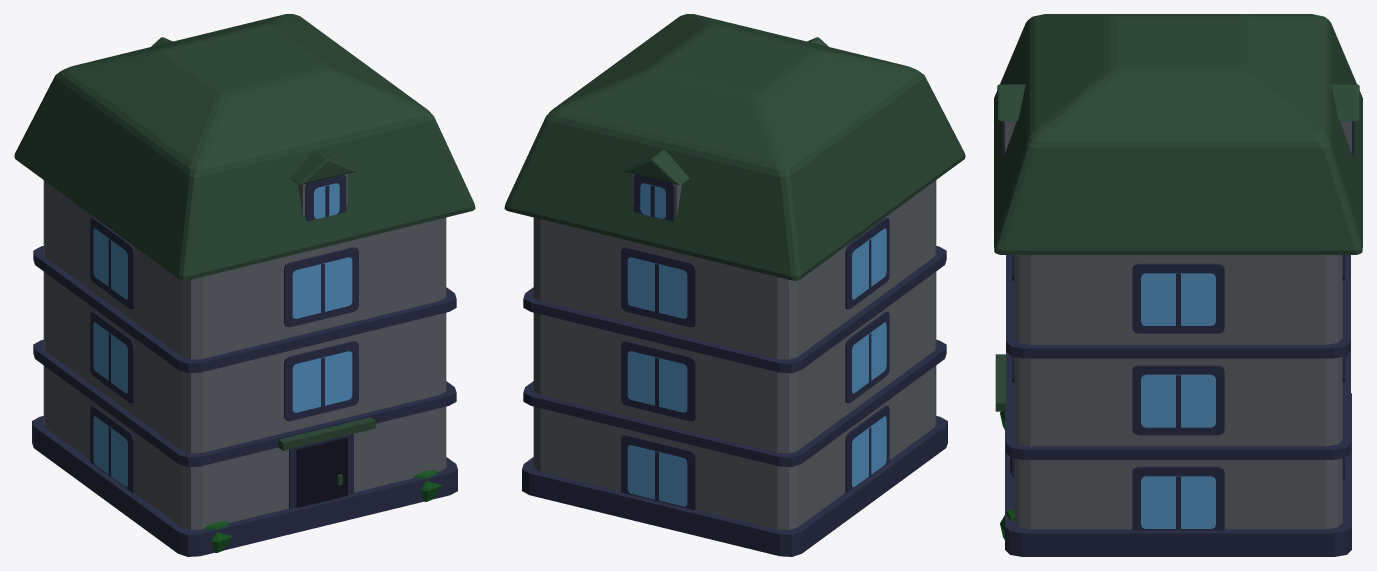
The model's file is house-1x1-3f-mansard-d.glb.
The picture shows the model from 3 angles, left to right: view 1: azimuth 30°, elevation 25°; view 2: azimuth 150°, elevation 25°; view 3: azimuth 270°, elevation 25°; orthographic projection. The views are drawn at different scales.
Parts seen in each view (by area): view 1: house-1x1-3f-mansard-d; view 2: house-1x1-3f-mansard-d; view 3: house-1x1-3f-mansard-d.
Boxes of the visible parts, left/top/right/bottom form: house-1x1-3f-mansard-d: left=14, top=14, right=475, bottom=556; house-1x1-3f-mansard-d: left=504, top=14, right=965, bottom=556; house-1x1-3f-mansard-d: left=994, top=14, right=1362, bottom=556.
Size of the model in its own units: 0.9876 by 1.3 by 0.9876.
1 material, 1 textured.
